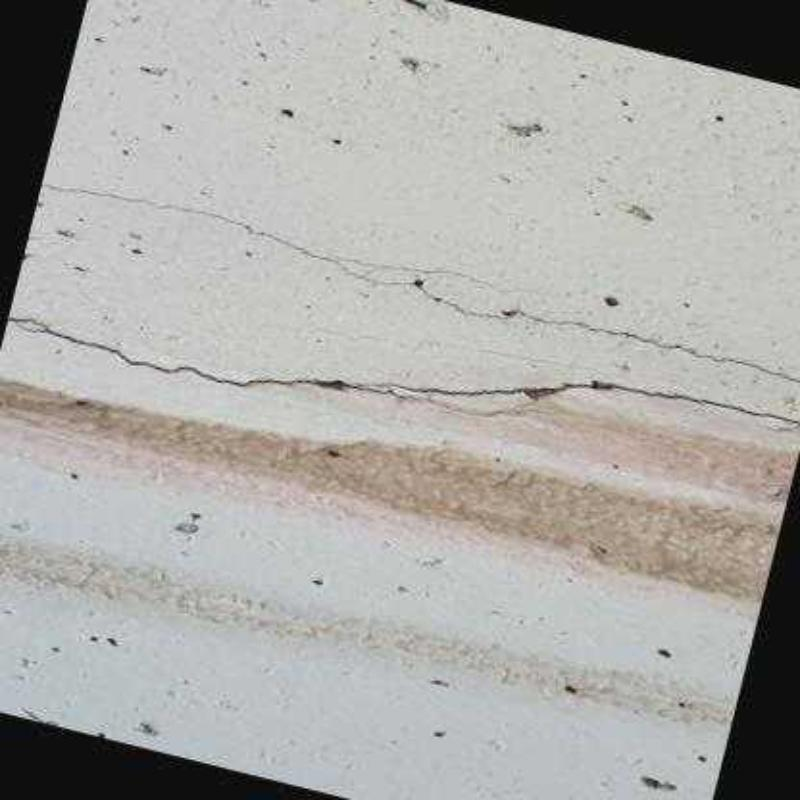pothole: (39, 173, 798, 387), (8, 308, 798, 427), (365, 260, 538, 294), (438, 394, 540, 417)
